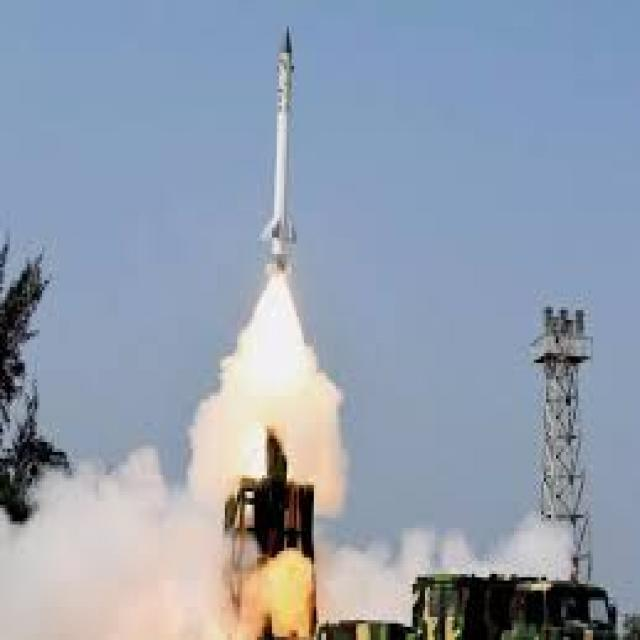missile: (258, 14, 305, 285)
